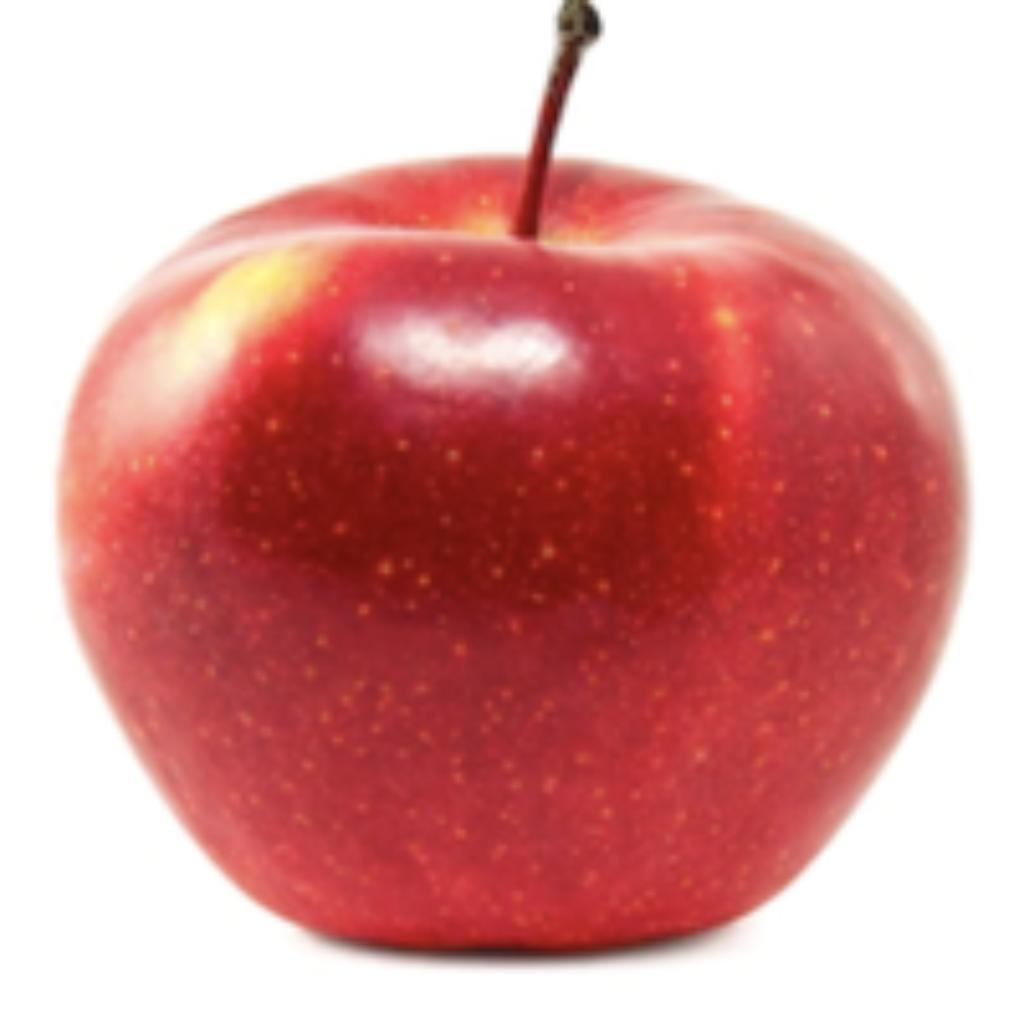apple: (46, 0, 978, 973)
